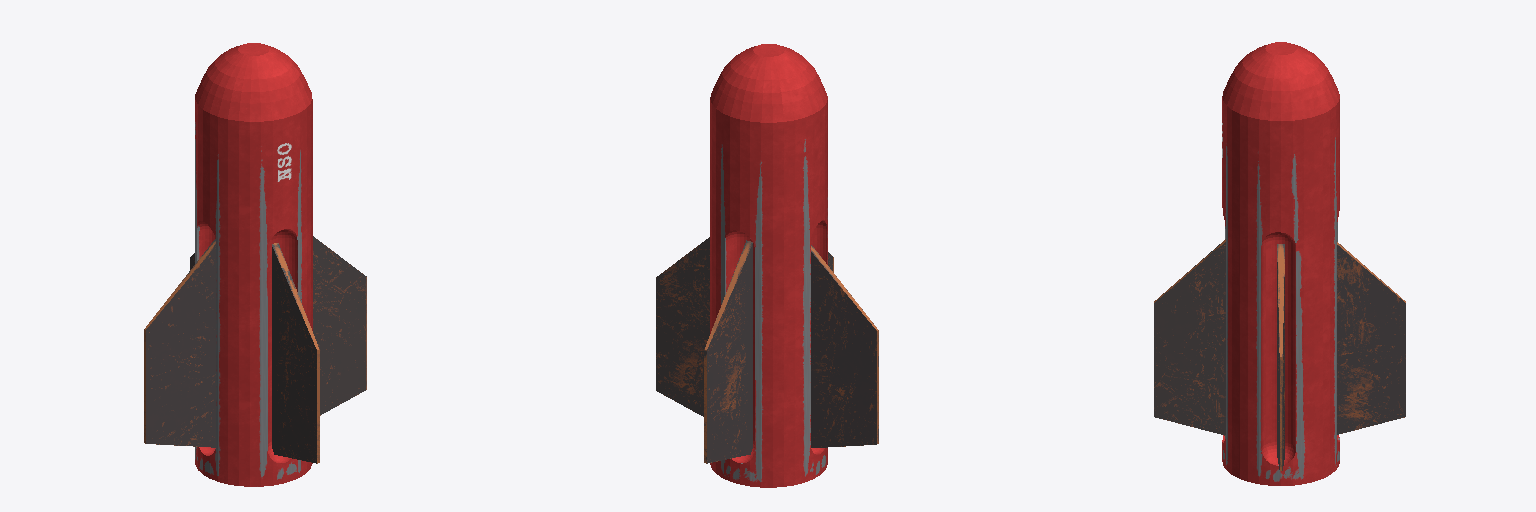
The picture shows the model from 3 angles: view 1: azimuth 30°, elevation 25°; view 2: azimuth 150°, elevation 25°; view 3: azimuth 270°, elevation 25°; orthographic projection.
Parts seen in each view (by area): view 1: missile_Cylinder; view 2: missile_Cylinder; view 3: missile_Cylinder.
Part boxes in pixels (x1,y1,x2,y2): missile_Cylinder: (144, 43, 366, 486); missile_Cylinder: (656, 44, 878, 487); missile_Cylinder: (1154, 42, 1405, 485).
Bounding box in the file's own units: 0.6935 × 1.24 × 0.6875.
Materials: 1 (1 with a texture image).